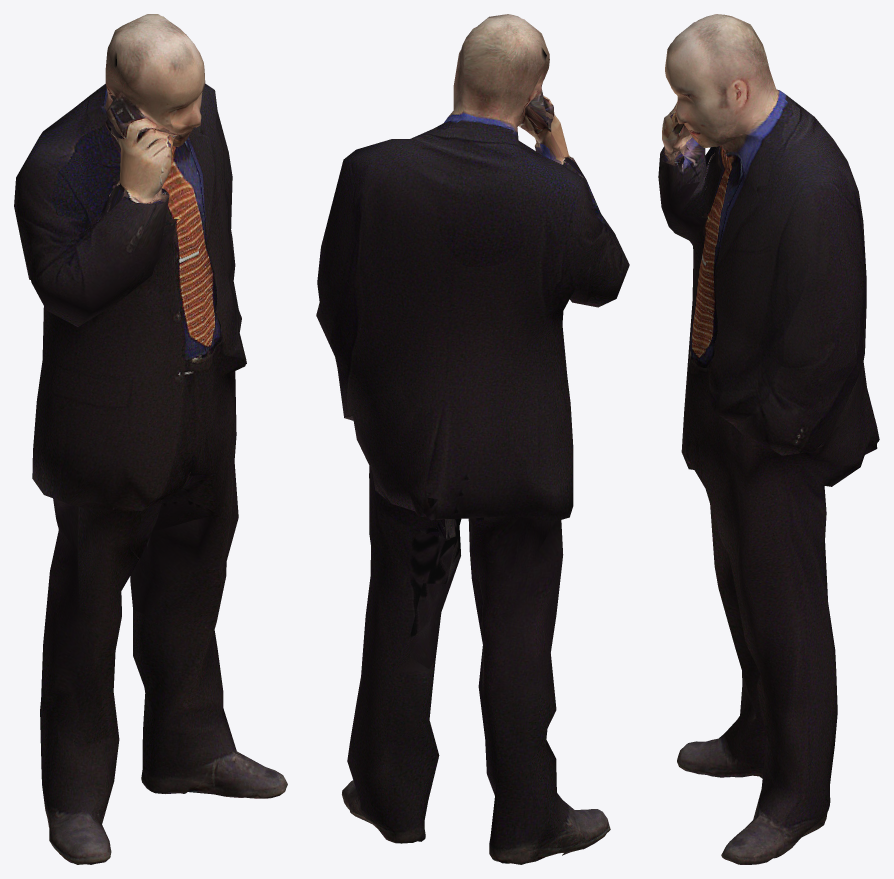
Rendered from Person_10.obj.
3 renders of one model, left to right at view 1: azimuth 30°, elevation 25°; view 2: azimuth 150°, elevation 25°; view 3: azimuth 270°, elevation 25°, orthographic. The views are drawn at different scales.
Parts seen in each view (by area): view 1: Person_10; view 2: Person_10; view 3: Person_10.
Boxes of the visible parts, <box> form: Person_10: <box>14,14,287,864</box>; Person_10: <box>316,14,629,864</box>; Person_10: <box>658,14,879,864</box>.
Bounding box in the file's own units: 0.5792 × 1.71 × 0.4345.
Materials: 1 (1 with a texture image).
